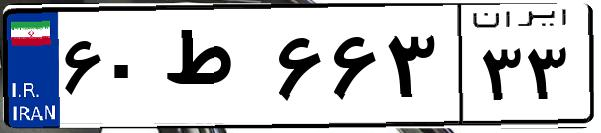0: (110, 28, 158, 98)
3: (385, 28, 445, 110), (475, 38, 525, 113), (525, 38, 570, 115)
6: (270, 28, 330, 110), (330, 28, 385, 110), (57, 26, 110, 100)
ط: (158, 20, 270, 120)
